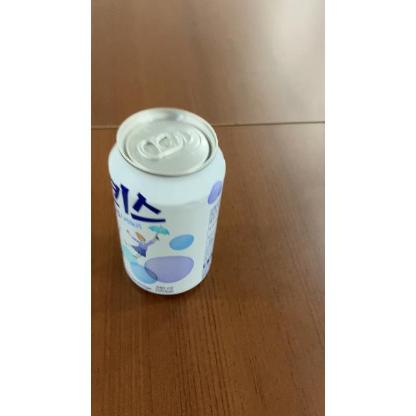Can: (106, 105, 228, 297)
